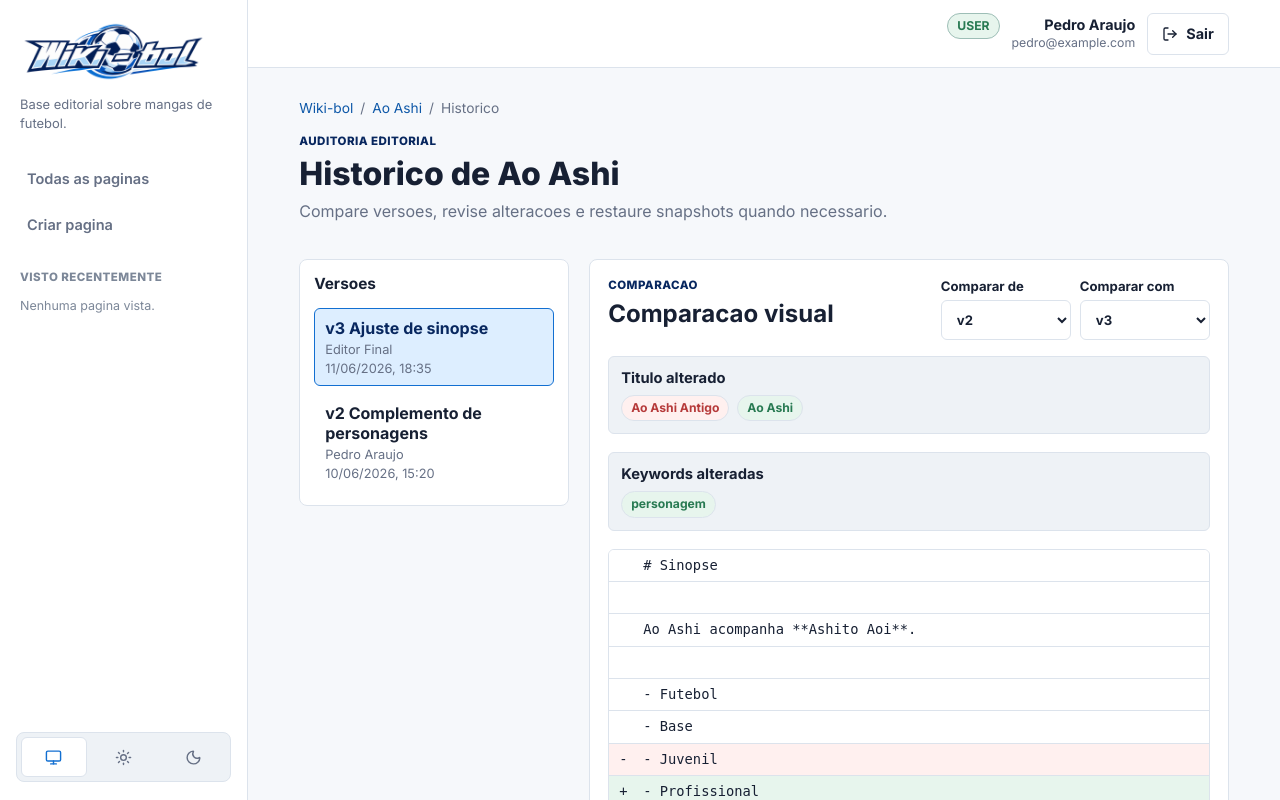
Wiki-bol frontend › restores a selected version only after modal confirmation for the original author
Expected: the heading "Historico de Ao Ashi" is shown, x1=299 y1=154 x2=620 y2=193
What coordinates should you click on to do the following:
click the button "v2 Complemento de personagens Pedro Araujo 10/06/2026, 15:20"
I would click on:
 (434, 442)
Its box is x1=314 y1=393 x2=554 y2=491.
(page scrolled)
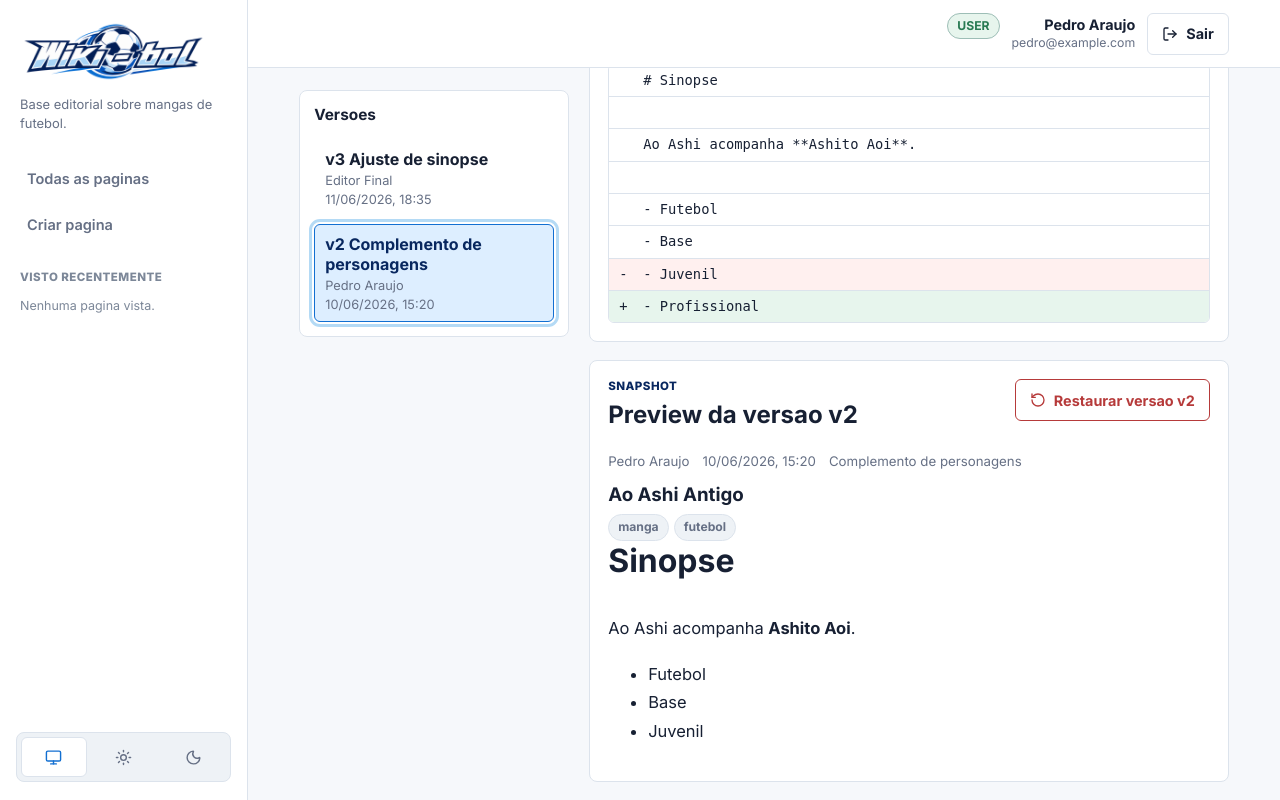
What coordinates should you click on to do the following:
click the button "Restaurar versao v2"
I would click on:
 (1112, 400)
Its box is x1=1015 y1=379 x2=1210 y2=421.
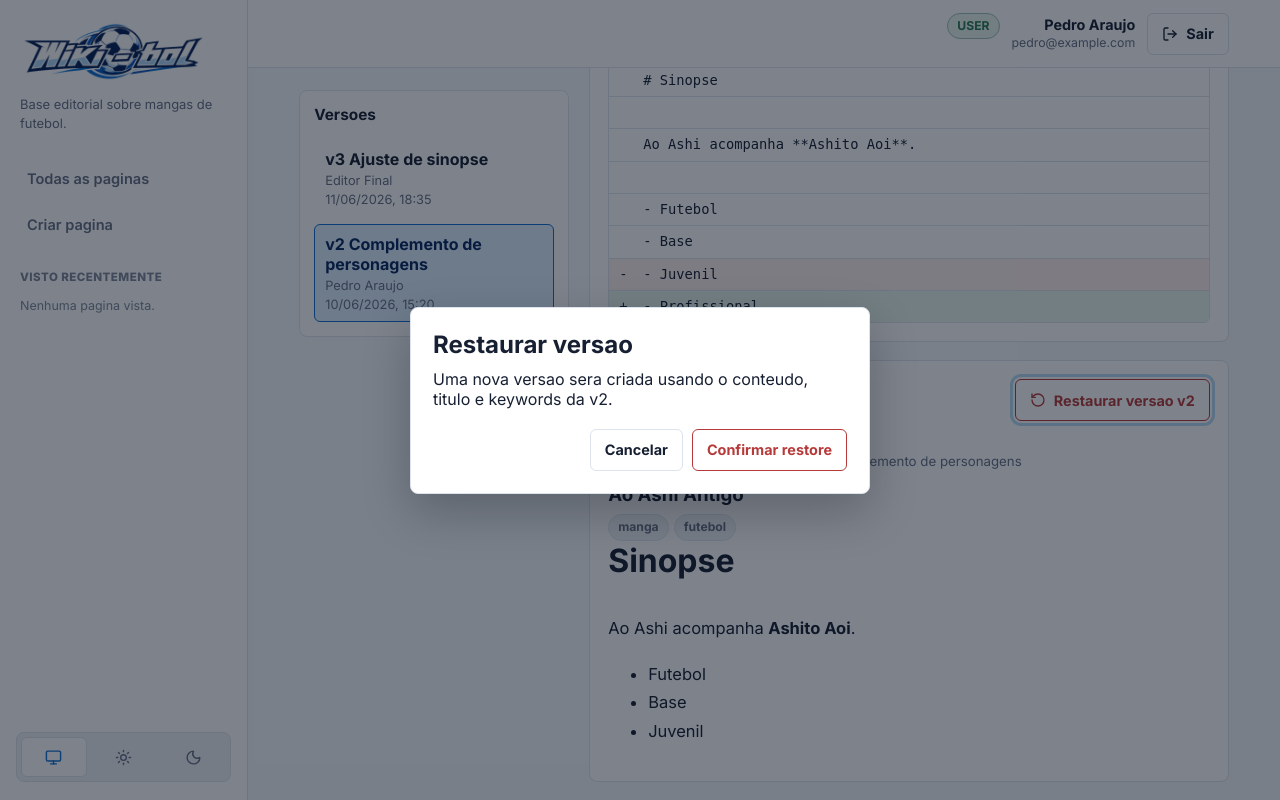
Expected: the text "Uma nova versao sera criada" is shown, x1=433 y1=368 x2=808 y2=408
What coordinates should you click on to do the following:
click the button "Confirmar restore"
I would click on:
 (769, 450)
Its box is x1=692 y1=428 x2=847 y2=470.
(page scrolled)
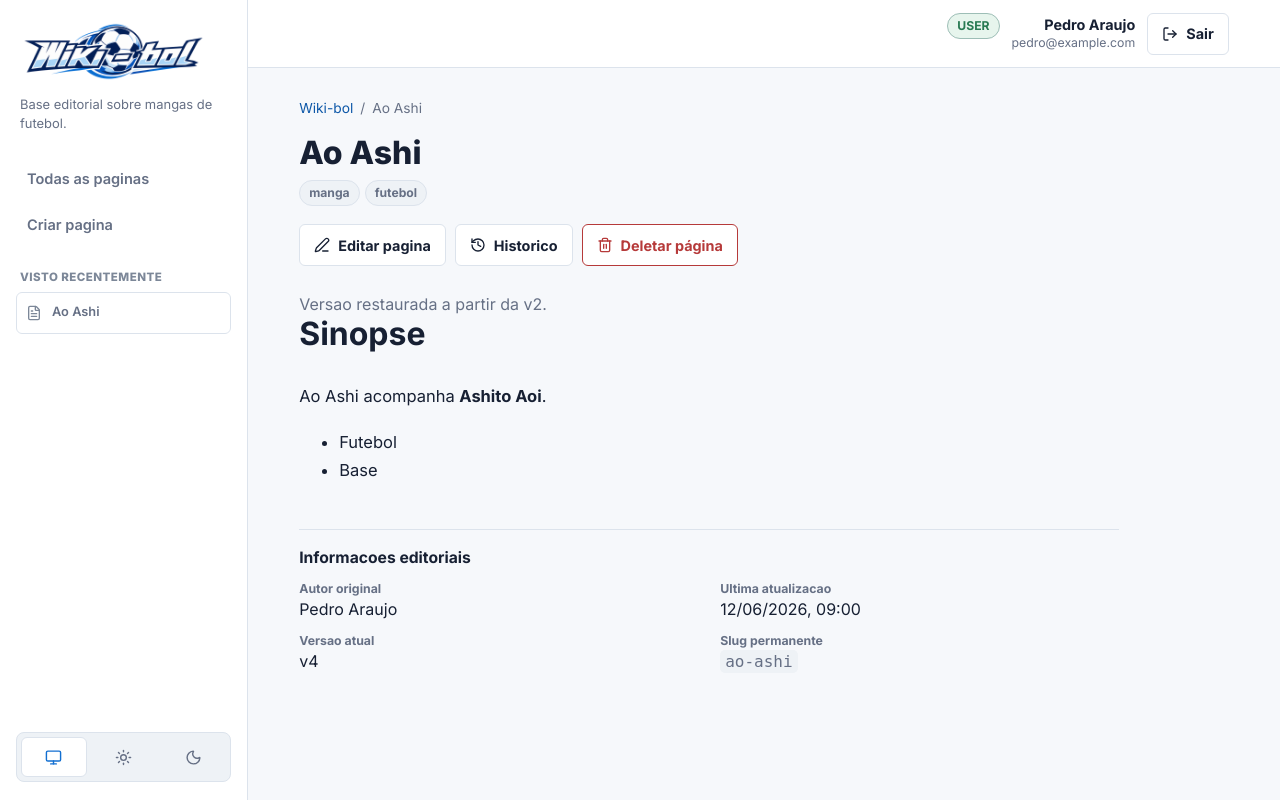
Expected: the heading "Ao Ashi" is shown, x1=299 y1=133 x2=422 y2=172
Expected: the text "Versao restaurada a partir da v2." is shown, x1=299 y1=294 x2=547 y2=314
